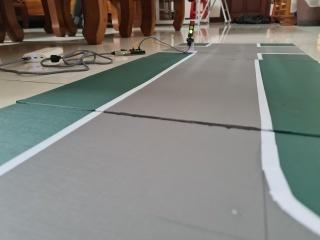green: (183, 15, 197, 41)
